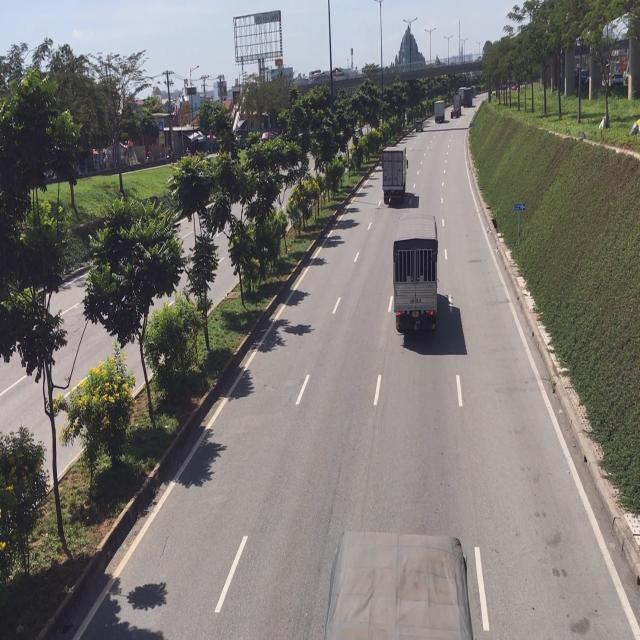truck: (392, 201, 443, 333), (383, 147, 406, 206)
